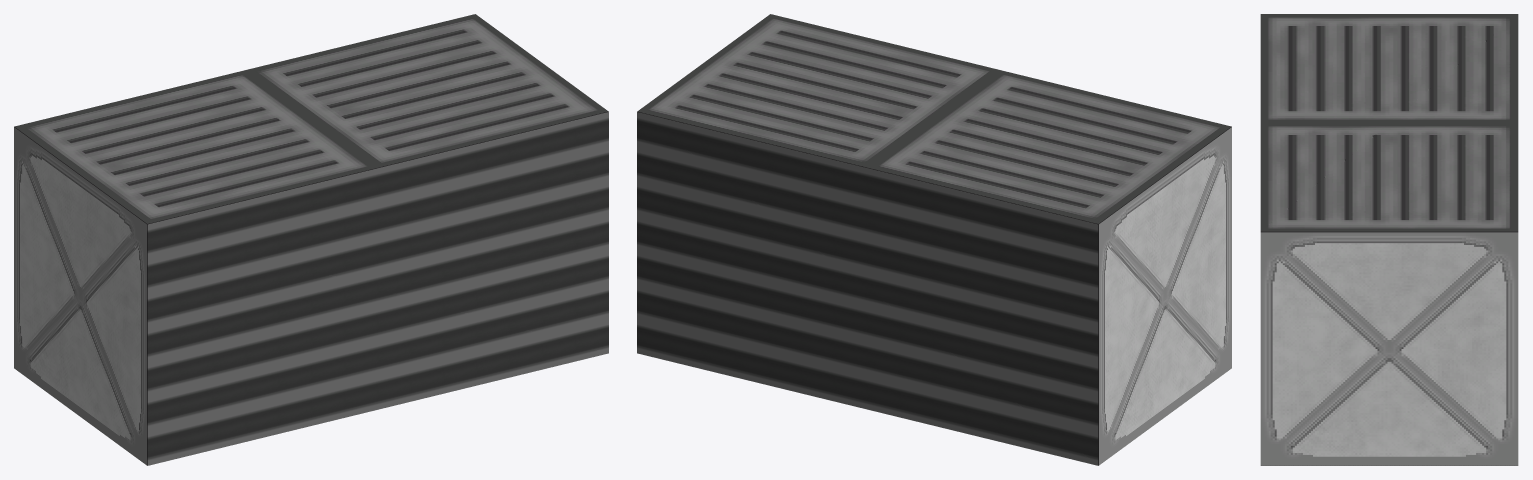
The model's file is steamturbine.obj.
3 views of the same model, side by side, from view 1: azimuth 30°, elevation 25°; view 2: azimuth 150°, elevation 25°; view 3: azimuth 270°, elevation 25° (orthographic). The views are drawn at different scales.
Visible parts, largest first — view 1: Steamturbine5, Steamturbine7, Steamturbine3, Steamturbine1; view 2: Steamturbine6, Steamturbine7, Steamturbine3, Steamturbine1; view 3: Steamturbine4, Steamturbine7, Steamturbine1.
Boxes of the visible parts, box(x1,y1,x2,y2) form: Steamturbine5: box(147, 112, 608, 465); Steamturbine7: box(14, 14, 608, 223); Steamturbine3: box(14, 127, 146, 465); Steamturbine1: box(14, 111, 608, 465); Steamturbine6: box(637, 112, 1098, 465); Steamturbine7: box(637, 14, 1231, 223); Steamturbine3: box(1099, 127, 1231, 465); Steamturbine1: box(637, 111, 1231, 465); Steamturbine4: box(1260, 232, 1518, 465); Steamturbine7: box(1260, 14, 1518, 231); Steamturbine1: box(1261, 231, 1517, 232).
Size of the model in its own units: 28.04 by 14.04 by 14.04.
Materials: 5 (4 with a texture image).
